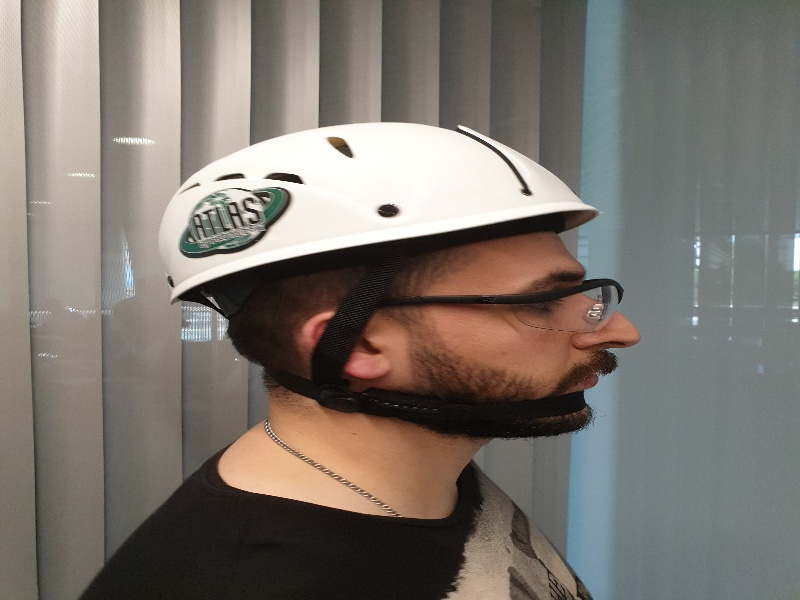Baret: (161, 120, 599, 266)
Gozluk: (399, 277, 625, 339)
